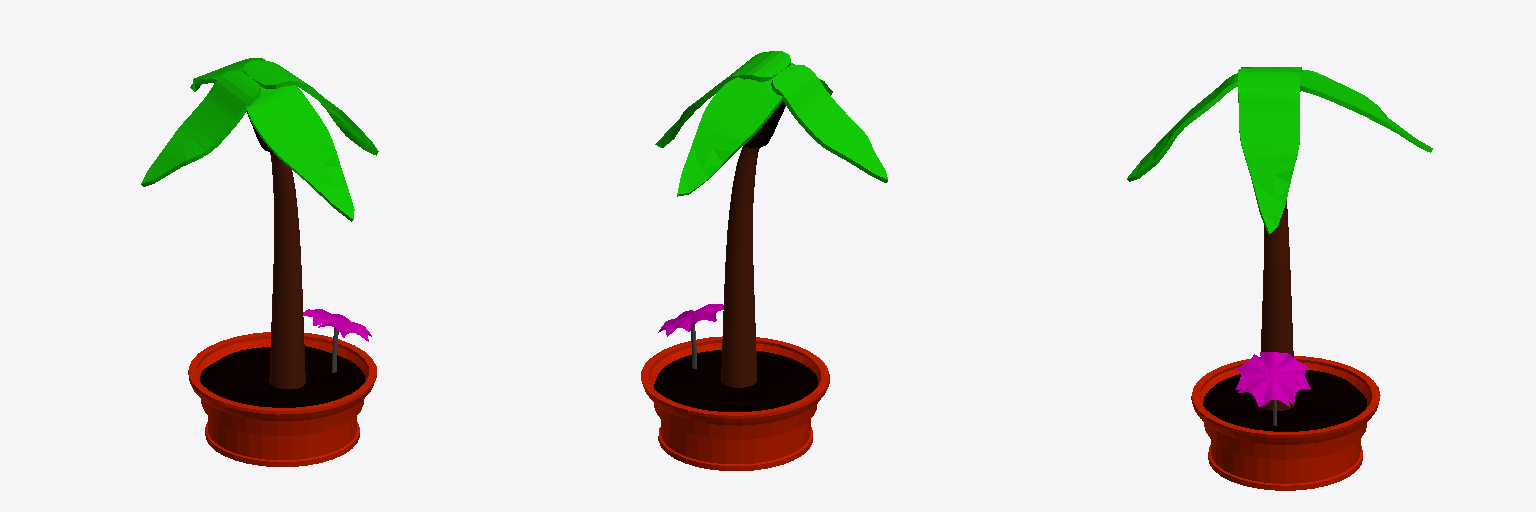
Rendered from Palmera.obj.
3 views of the same model, side by side, from view 1: azimuth 30°, elevation 25°; view 2: azimuth 150°, elevation 25°; view 3: azimuth 270°, elevation 25° (orthographic).
Visible parts, largest first — view 1: Plane.002, Circle, Plane, Circle.002; view 2: Plane.002, Circle, Plane, Circle.002; view 3: Plane.002, Circle, Plane, Circle.002.
Part boxes in pixels (left/top/right/bottom): Plane.002: left=141, top=58, right=378, bottom=389; Circle: left=188, top=332, right=376, bottom=466; Plane: left=200, top=346, right=364, bottom=407; Circle.002: left=303, top=309, right=371, bottom=341; Plane.002: left=655, top=51, right=887, bottom=387; Circle: left=641, top=336, right=829, bottom=470; Plane: left=654, top=350, right=817, bottom=411; Circle.002: left=658, top=304, right=723, bottom=336; Plane.002: left=1127, top=67, right=1432, bottom=410; Circle: left=1191, top=356, right=1380, bottom=490; Plane: left=1203, top=370, right=1366, bottom=431; Circle.002: left=1235, top=352, right=1310, bottom=406.
Bounding box in the file's own units: 3.88 × 5.91 × 4.38.